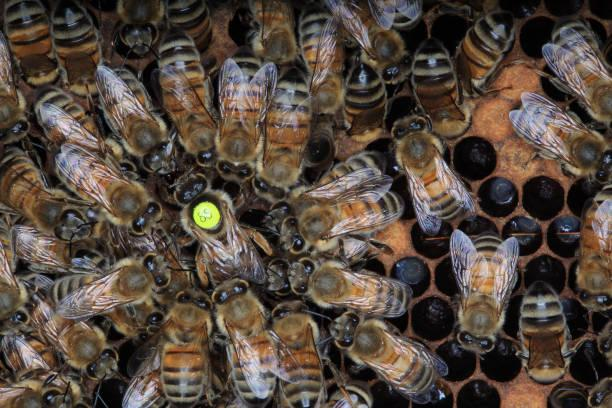Queen-Bee: (174, 173, 264, 283)
worker-bee: (279, 151, 403, 253), (123, 288, 214, 407), (329, 312, 447, 402), (391, 114, 474, 234), (212, 278, 288, 407), (54, 143, 161, 233), (154, 29, 218, 166), (450, 230, 518, 354), (0, 147, 88, 239), (50, 254, 169, 318), (95, 65, 166, 171), (215, 58, 276, 178), (288, 258, 412, 317), (31, 295, 117, 379), (0, 335, 89, 407), (270, 300, 324, 407)
